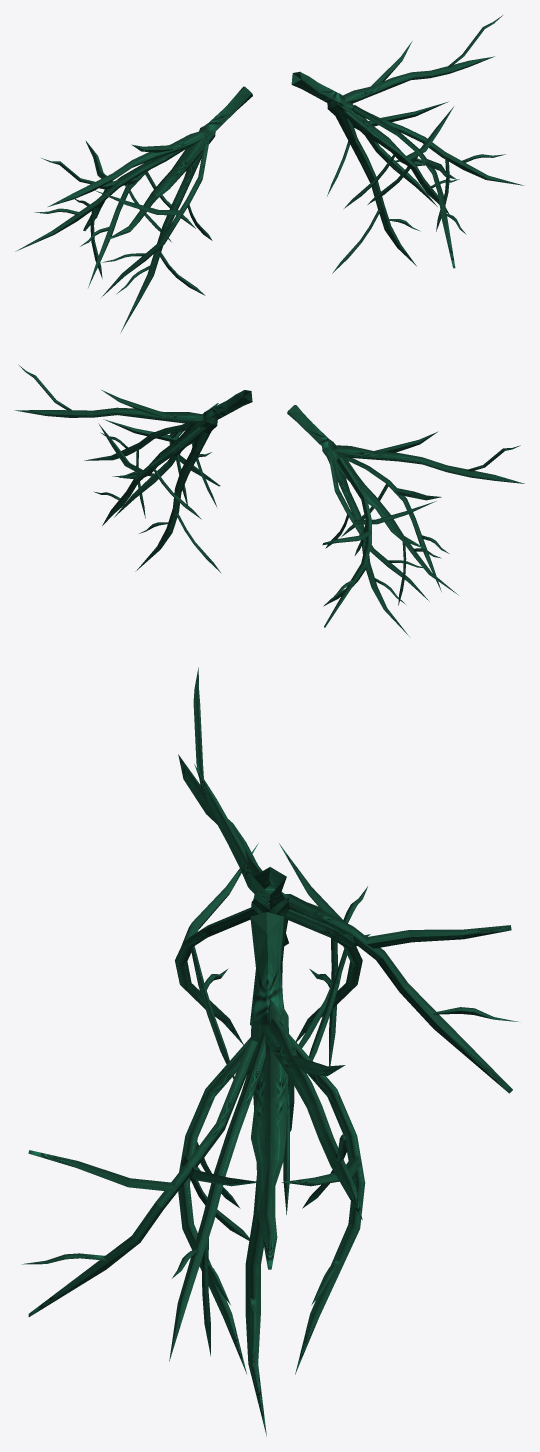
File: rokugu_tr4_g5-6.fbx
3 renders of one model, top to bottom at view 1: azimuth 30°, elevation 25°; view 2: azimuth 150°, elevation 25°; view 3: azimuth 270°, elevation 25°, orthographic. The views are drawn at different scales.
Parts seen in each view (by area): view 1: rokugu_tr4_g6_L0_cut, rokugu_tr4_g5_L0_cut; view 2: rokugu_tr4_g5_L0_cut, rokugu_tr4_g6_L0_cut; view 3: rokugu_tr4_g6_L0_cut, rokugu_tr4_g5_L0_cut.
Part boxes in pixels (left/top/right/bottom): rokugu_tr4_g6_L0_cut: left=291, top=15, right=523, bottom=273; rokugu_tr4_g5_L0_cut: left=15, top=86, right=252, bottom=333; rokugu_tr4_g5_L0_cut: left=287, top=405, right=524, bottom=636; rokugu_tr4_g6_L0_cut: left=14, top=364, right=252, bottom=573; rokugu_tr4_g6_L0_cut: left=22, top=912, right=365, bottom=1436; rokugu_tr4_g5_L0_cut: left=175, top=667, right=518, bottom=1214.
Size of the model in its own units: 4.95 by 2.11 by 2.29.
